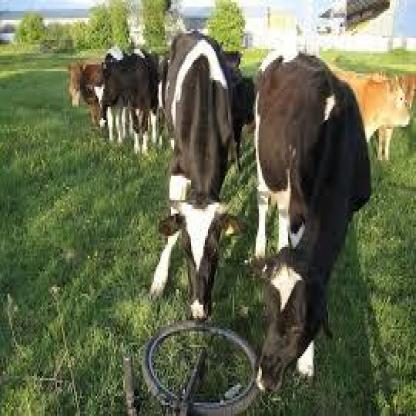cow: (247, 47, 371, 396), (149, 30, 247, 324), (320, 61, 412, 141), (102, 46, 160, 156), (362, 70, 416, 161), (226, 72, 256, 172), (63, 59, 102, 123)
